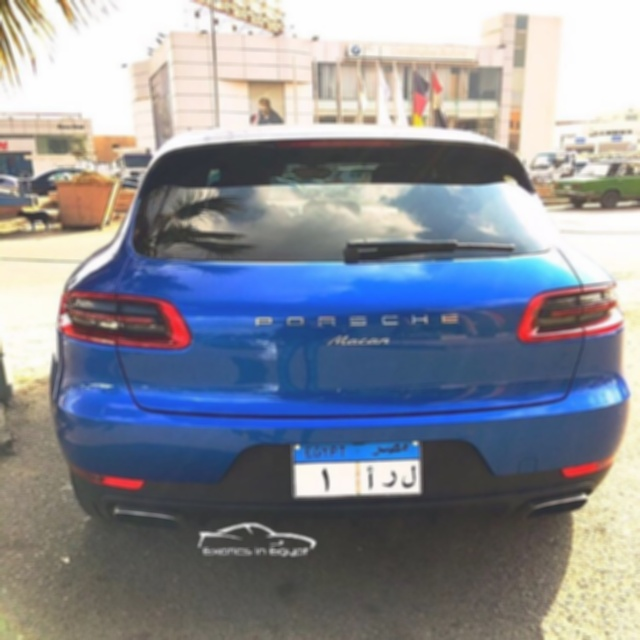License Plate: (289, 437, 426, 502)
